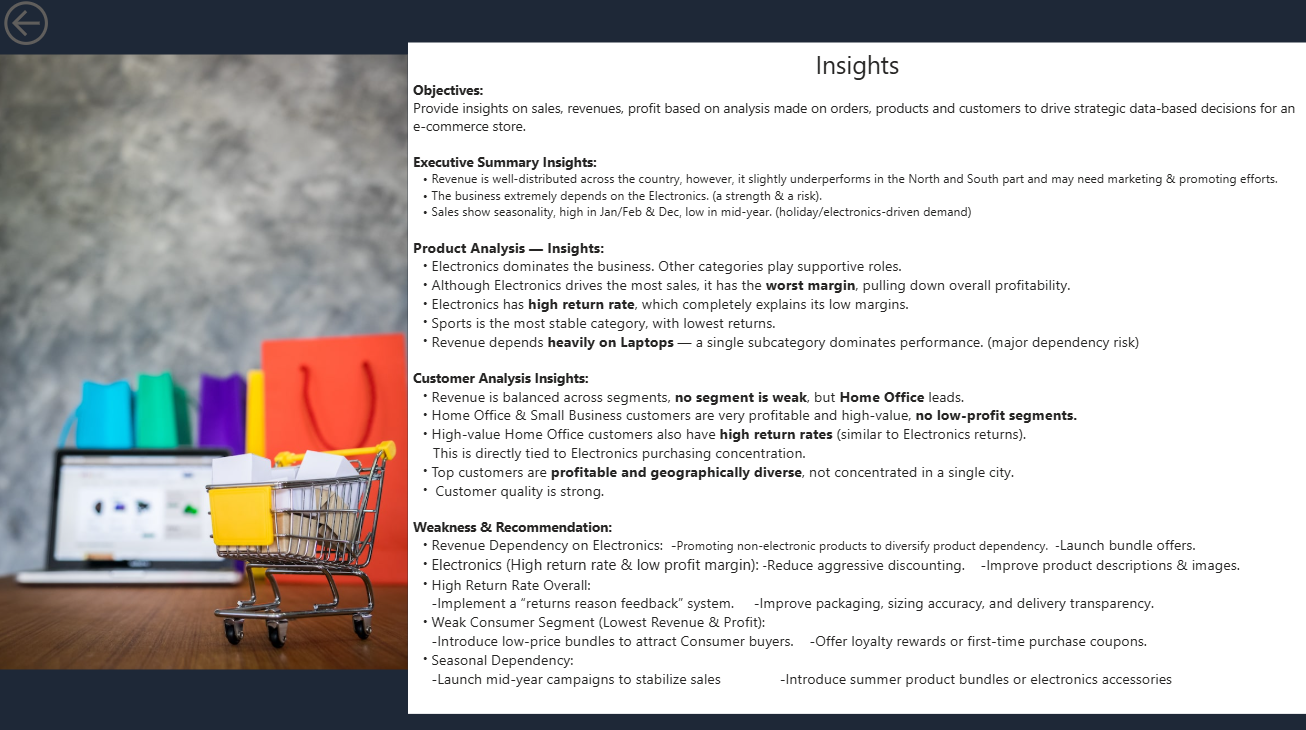

Layout of this report page (visuals, bound fields, positions):
{"tool":"powerbi","page":{"name":"Summary & Insights","canvas":[1280,720],"ordinal":3},"visuals":[{"type":"image","box":[0,55,401.1,607.7],"z":0},{"type":"actionButton","box":[0,0,100.3,55],"z":1000},{"type":"textbox","box":[401.1,46.5,879.2,656.7],"z":2000}]}

Visuals, with their boxes on the page's 1280x720 design canvas (x1, y1, x2, y2). These are canvas units, not pixel positions in the 1306x730 screenshot, which may show the page scaled, cropped or inside an application window:
image: [left=0, top=55, right=401, bottom=663]
actionButton: [left=0, top=0, right=100, bottom=55]
textbox: [left=401, top=46, right=1280, bottom=703]
